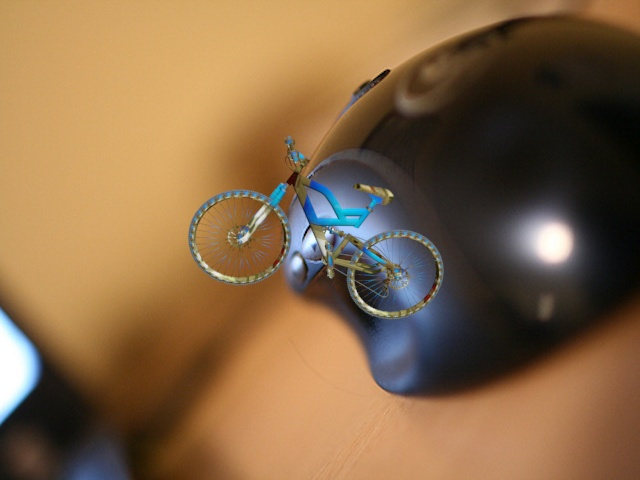bike: (176, 128, 449, 321)
